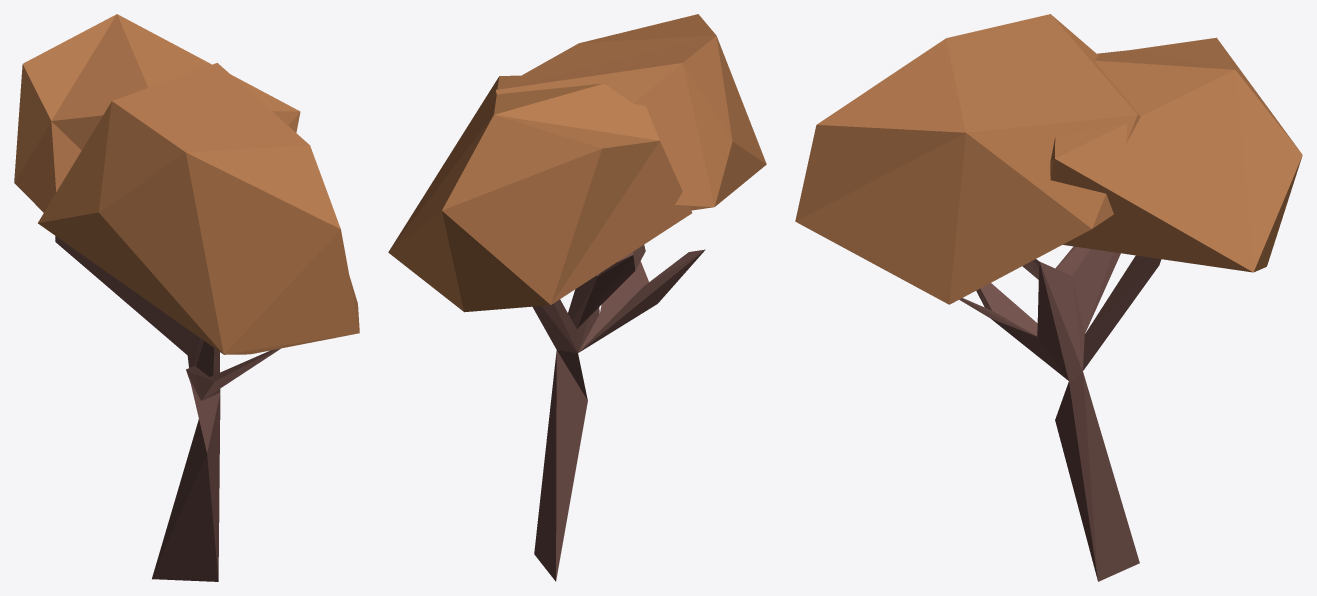
Rendered from CommonTree_Autumn_5.lod3.glb.
The picture shows the model from 3 angles, left to right: view 1: azimuth 30°, elevation 25°; view 2: azimuth 150°, elevation 25°; view 3: azimuth 270°, elevation 25°; orthographic projection. The views are drawn at different scales.
Parts seen in each view (by area): view 1: CommonTree_Autumn_5; view 2: CommonTree_Autumn_5; view 3: CommonTree_Autumn_5.
Part boxes in pixels (x1,y1,x2,y2): CommonTree_Autumn_5: (14,14,359,581); CommonTree_Autumn_5: (388,14,766,581); CommonTree_Autumn_5: (795,14,1302,581).
Size of the model in its own units: 1.3 by 2.5 by 2.26.
